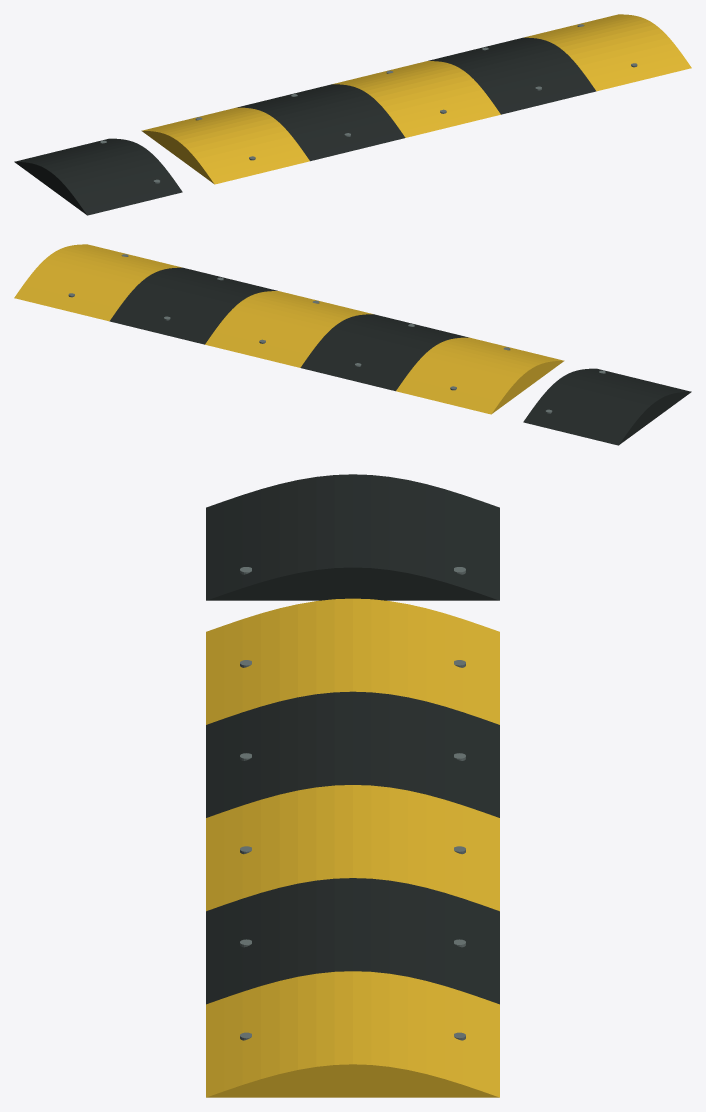
File: source-edit.glb
The picture shows the model from 3 angles, top to bottom: view 1: azimuth 30°, elevation 25°; view 2: azimuth 150°, elevation 25°; view 3: azimuth 270°, elevation 25°; orthographic projection. The views are drawn at different scales.
Parts seen in each view (by area): view 1: SEGMENT_0, SEGMENT_1, SEGMENT_5, SEGMENT_4, SEGMENT_3, SEGMENT_2; view 2: SEGMENT_0, SEGMENT_1, SEGMENT_5, SEGMENT_4, SEGMENT_3, SEGMENT_2; view 3: SEGMENT_5, SEGMENT_0, SEGMENT_4, SEGMENT_2, SEGMENT_3, SEGMENT_1.
Boxes of the visible parts, box(x1,y1,x2,y2) form: SEGMENT_0: box(14, 138, 182, 215); SEGMENT_1: box(141, 107, 309, 184); SEGMENT_5: box(524, 14, 691, 91); SEGMENT_4: box(428, 37, 596, 114); SEGMENT_3: box(332, 61, 500, 137); SEGMENT_2: box(237, 84, 405, 161); SEGMENT_0: box(523, 368, 691, 445); SEGMENT_1: box(396, 337, 564, 414); SEGMENT_5: box(14, 244, 181, 321); SEGMENT_4: box(109, 267, 277, 344); SEGMENT_3: box(205, 291, 373, 367); SEGMENT_2: box(300, 314, 468, 391); SEGMENT_5: box(206, 971, 499, 1097); SEGMENT_0: box(206, 474, 499, 600); SEGMENT_4: box(206, 878, 499, 1004); SEGMENT_2: box(206, 691, 499, 817); SEGMENT_3: box(206, 785, 499, 911); SEGMENT_1: box(206, 598, 499, 724).
Size of the model in its own units: 3.8 by 0.1 by 0.8.
